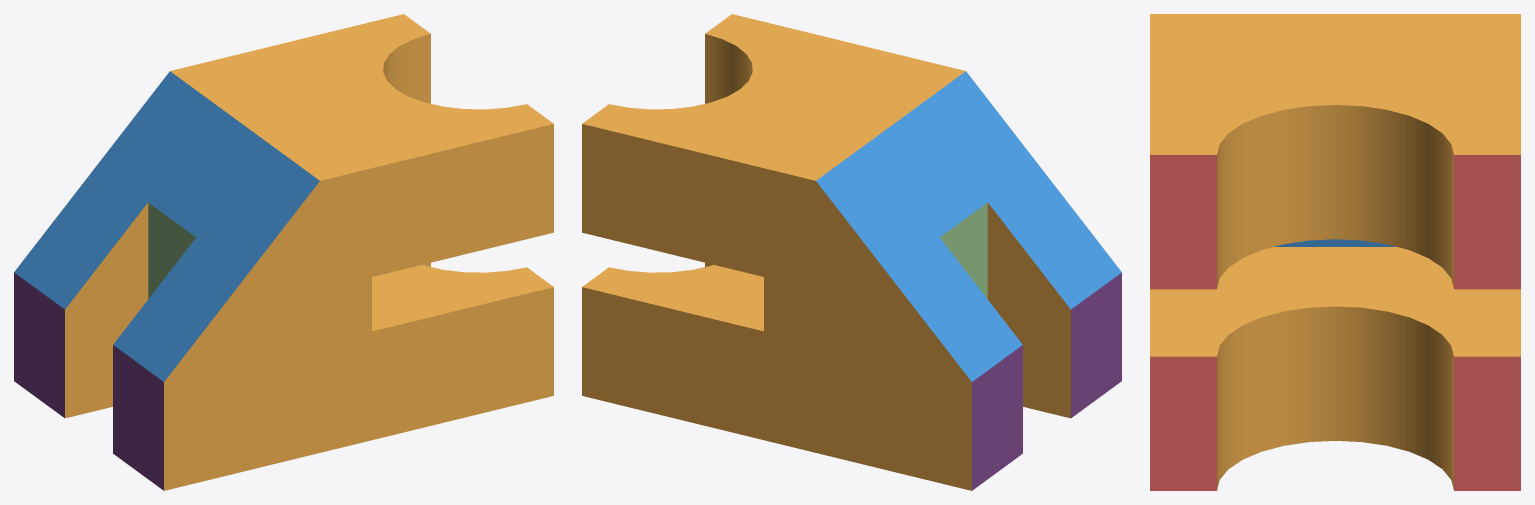
The picture shows the model from 3 angles, left to right: view 1: azimuth 30°, elevation 25°; view 2: azimuth 150°, elevation 25°; view 3: azimuth 270°, elevation 25°; orthographic projection. The views are drawn at different scales.
Parts seen in each view (by area): view 1: 5-2; view 2: 5-2; view 3: 5-2.
Boxes of the visible parts, x1,y1,x2,y2 form: 5-2: (14,14,553,490); 5-2: (582,14,1121,490); 5-2: (1150,14,1520,490).
Bounding box in the file's own units: 858 × 572 × 572.
